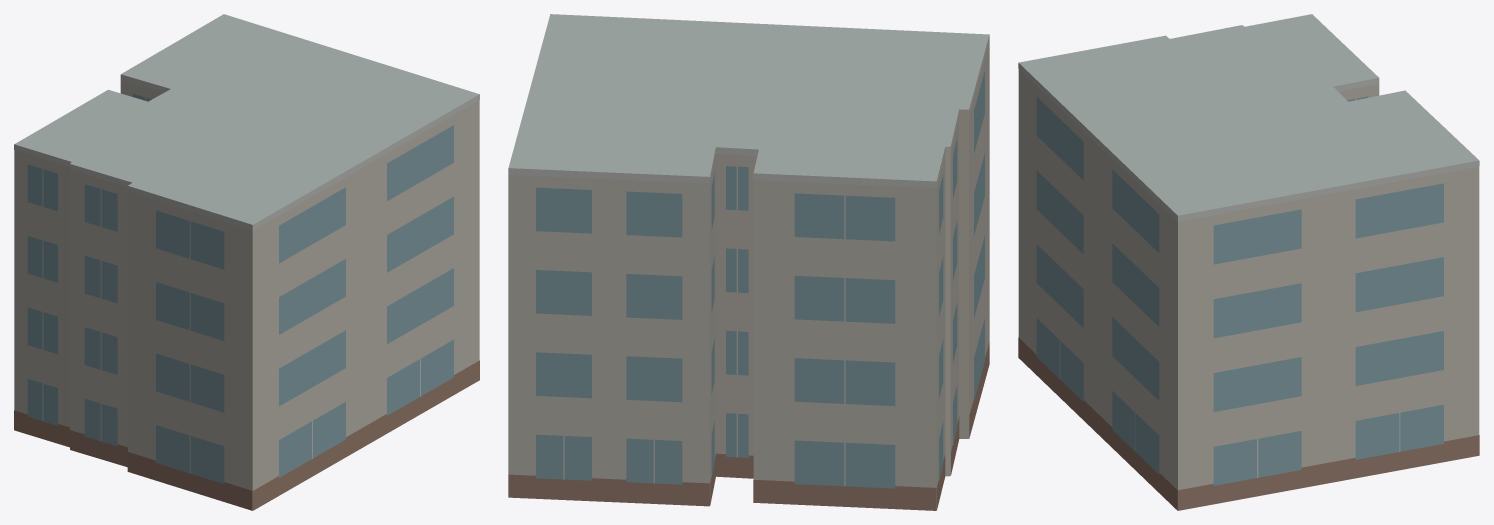
The model's file is survey-upis-32968547.glb.
3 views of the same model, side by side, from view 1: azimuth 30°, elevation 25°; view 2: azimuth 150°, elevation 25°; view 3: azimuth 270°, elevation 25° (orthographic). The views are drawn at different scales.
Visible parts, largest first — view 1: survey-upis-32968547.tmp; view 2: survey-upis-32968547.tmp; view 3: survey-upis-32968547.tmp.
Part boxes in pixels (bbox=[...]): survey-upis-32968547.tmp: bbox=[14, 14, 479, 510]; survey-upis-32968547.tmp: bbox=[508, 14, 989, 510]; survey-upis-32968547.tmp: bbox=[1018, 14, 1479, 510].
Size of the model in its own units: 17.67 by 12.05 by 17.06.
